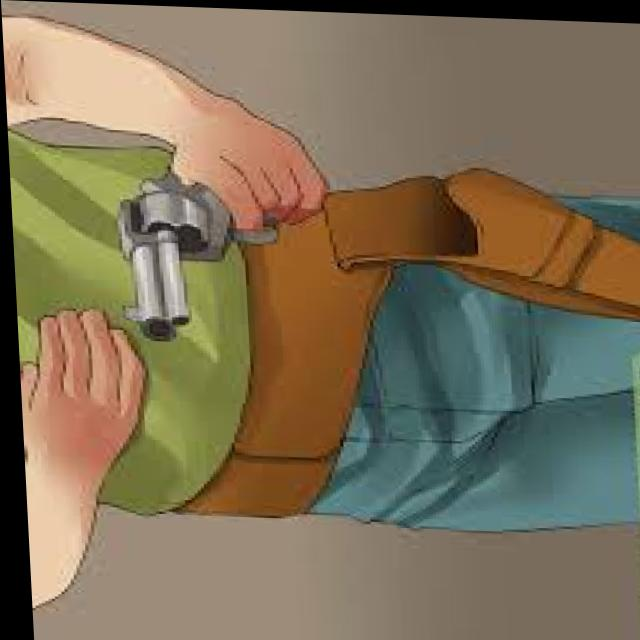handgun: (98, 153, 278, 346)
